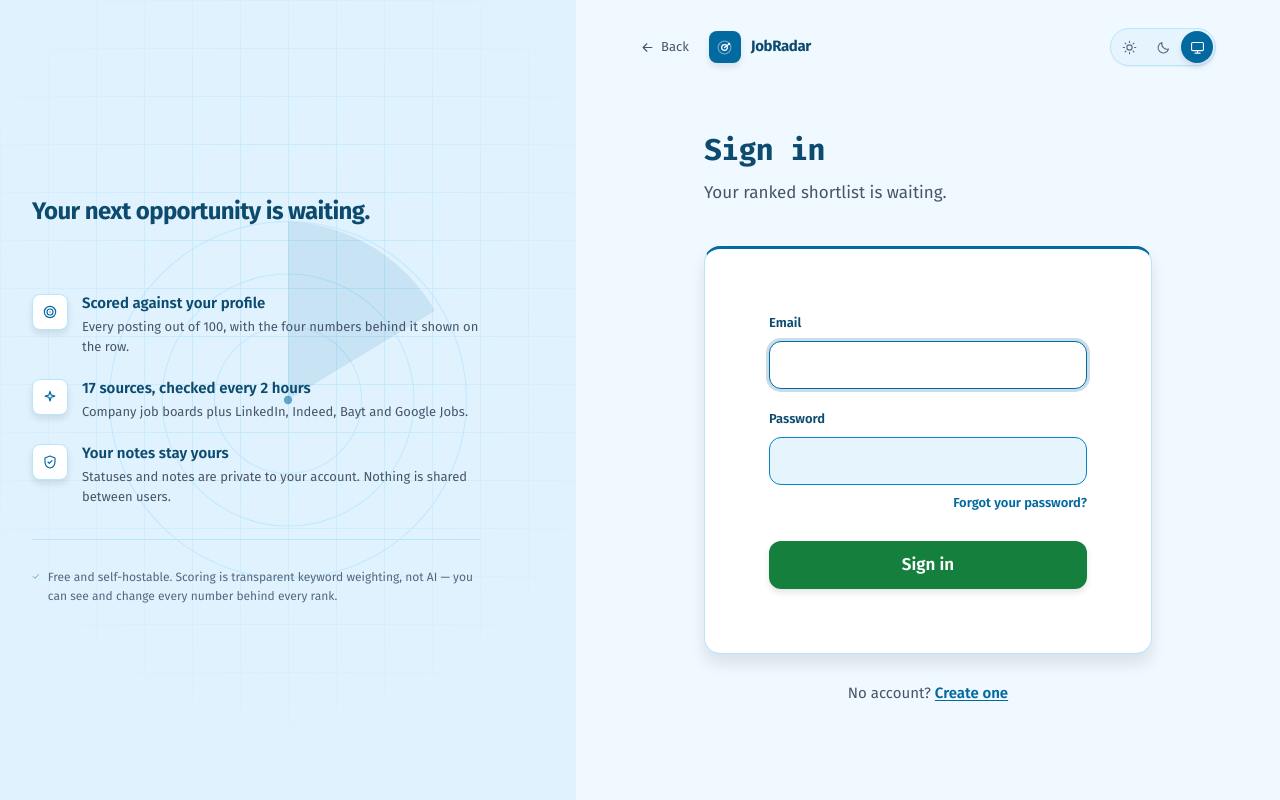
Test: forgot password › is reachable from the sign-in screen
Click the link "Forgot your password?". click: coordinates (1020, 503)
box: [953, 493, 1087, 513]
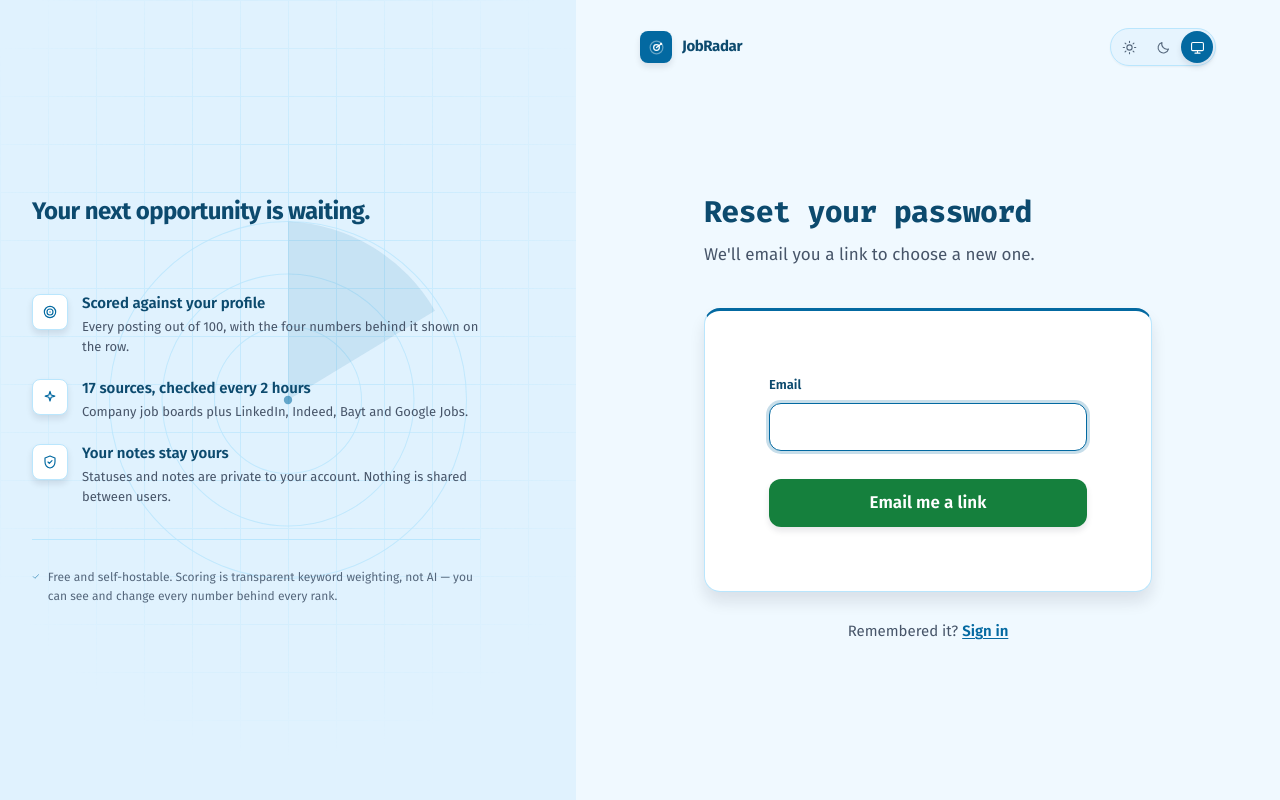
Check: the heading "Reset your password" is shown, box [704, 192, 1032, 232]
